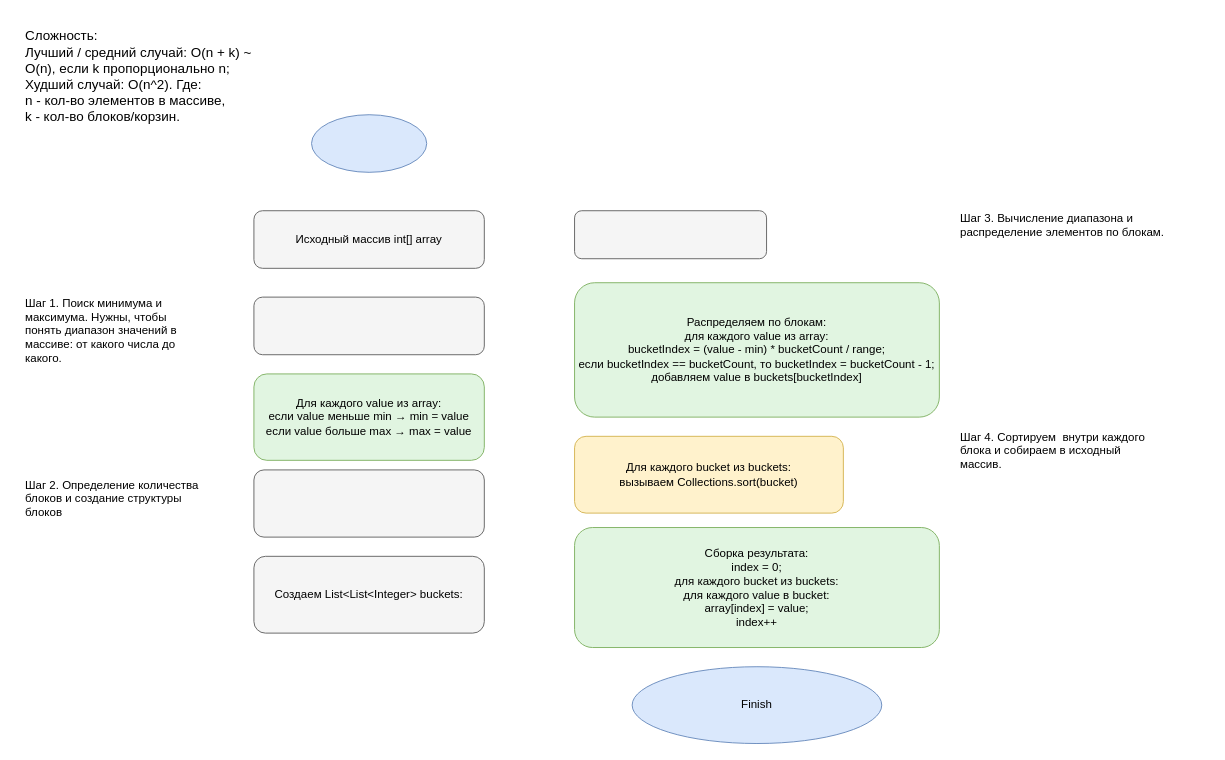
Image size: 1225x760. Some labels were removed from this diagram. The shapes that lost their labels are listed below. From the top down, each one's box as (x1, y1, x2, y2) in pixels, then its label:
(311, 114, 427, 172): Start
(574, 210, 767, 259): range = max - min + 1
(253, 296, 484, 355): int min = array[0]; int max = array[0];
(253, 469, 484, 537): int n = array.length; int bucketCount = n / 3;
